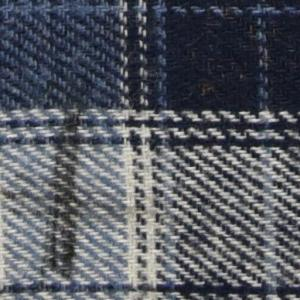Stain: (34, 101, 91, 296)
